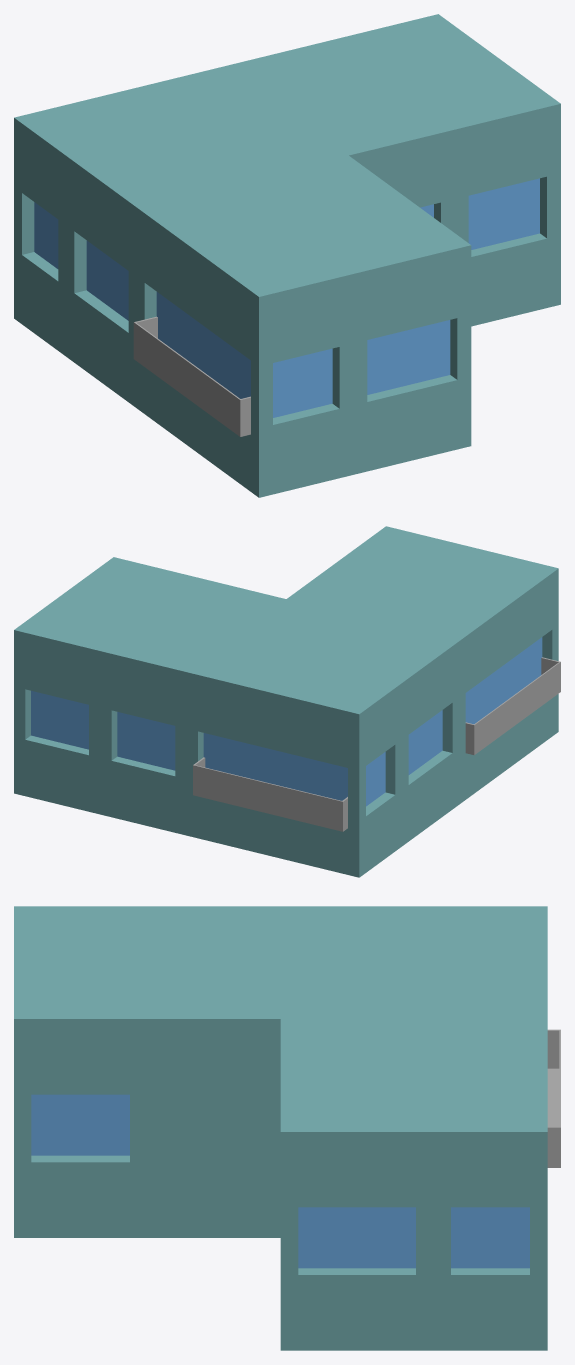
File: building_L_4_f.glb
3 views of the same model, one above another, from view 1: azimuth 30°, elevation 25°; view 2: azimuth 150°, elevation 25°; view 3: azimuth 270°, elevation 25° (orthographic). The views are drawn at different scales.
Parts seen in each view (by area): view 1: Cube.001; view 2: Cube.001; view 3: Cube.001.
Boxes of the visible parts, <box> form: Cube.001: <box>14,14,560,497</box>; Cube.001: <box>14,526,560,877</box>; Cube.001: <box>14,906,560,1350</box>.
Bounding box in the file's own units: 3.63 × 1.6 × 3.63.
